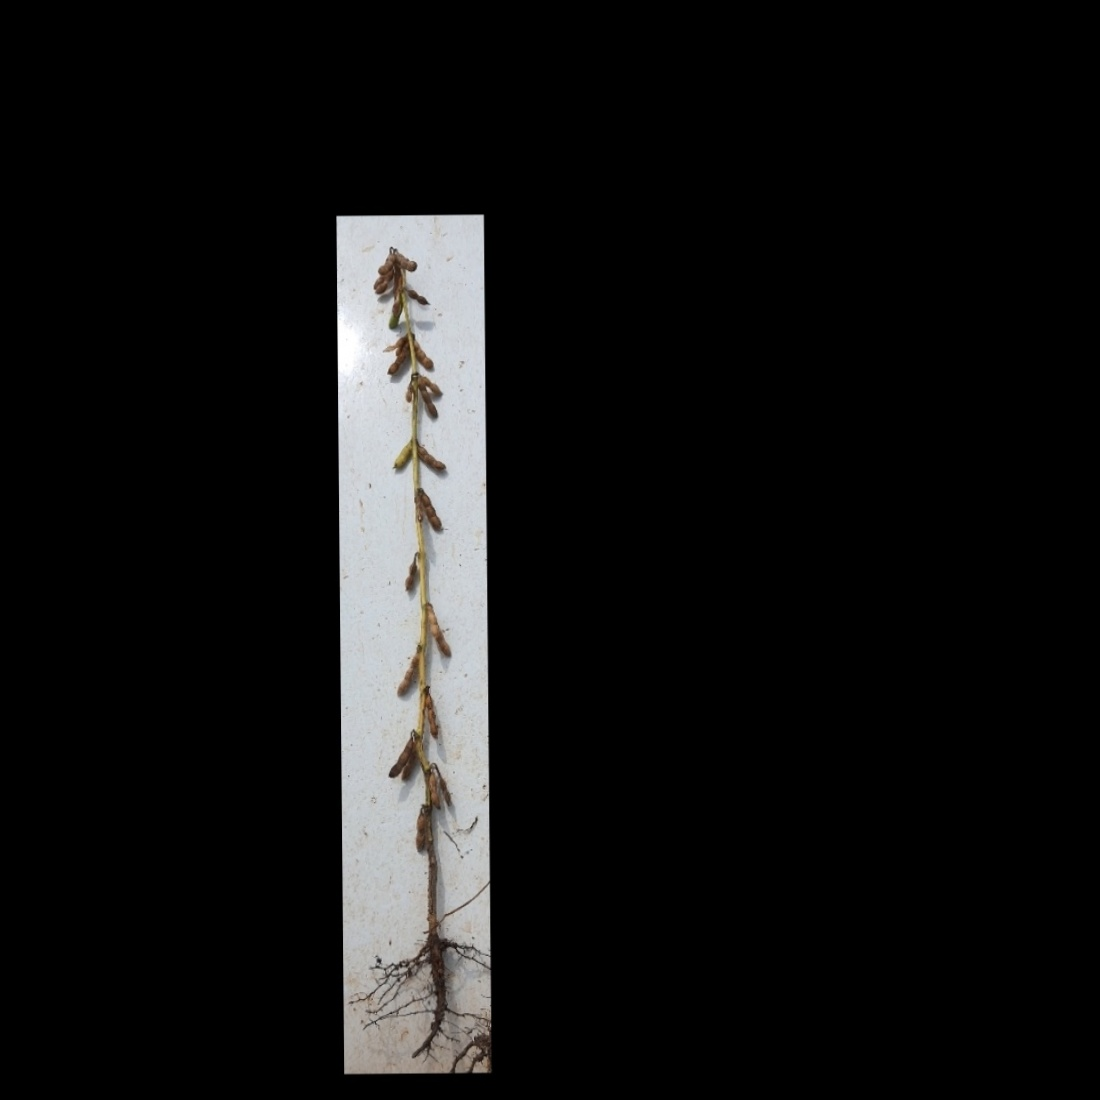pod: (423, 601, 452, 659), (412, 434, 448, 473), (394, 650, 419, 701), (416, 488, 443, 531), (390, 435, 415, 475), (407, 335, 436, 370), (422, 691, 440, 740), (401, 550, 420, 595), (411, 808, 428, 854), (401, 283, 431, 306), (436, 773, 454, 808), (426, 772, 441, 809), (403, 377, 414, 404)
soy: (362, 239, 474, 1056)
